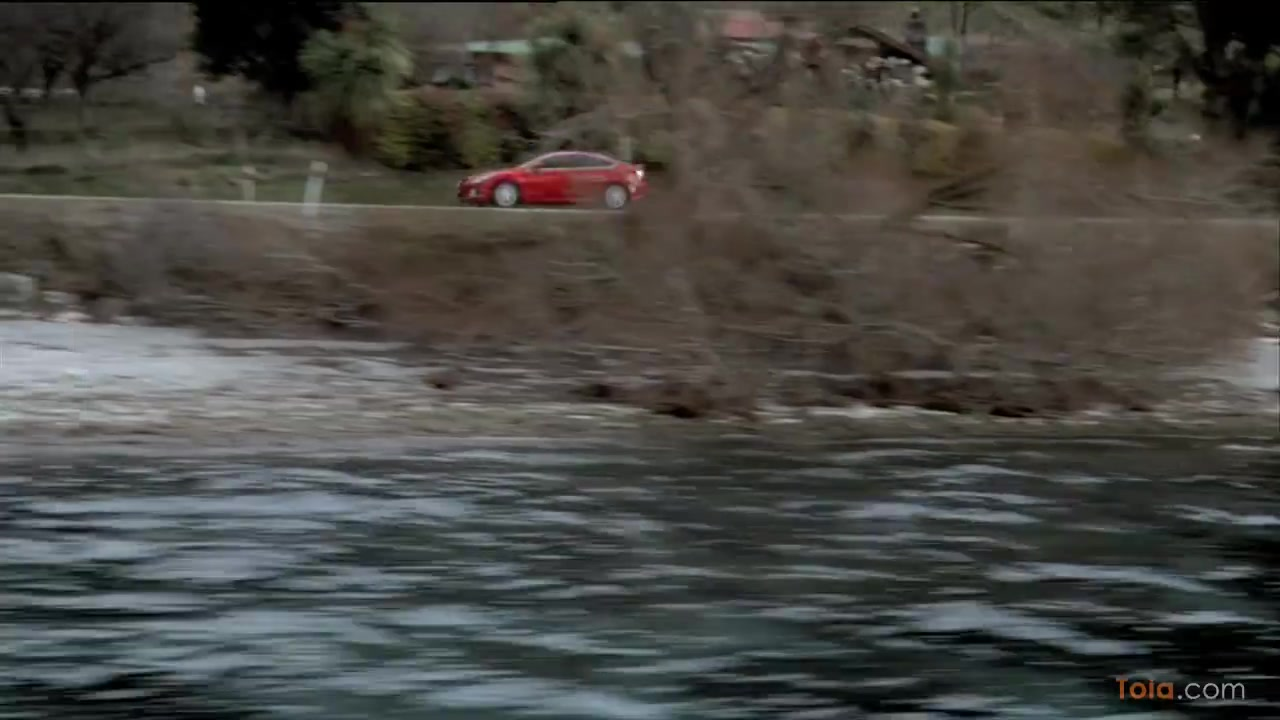car: (453, 147, 651, 211)
